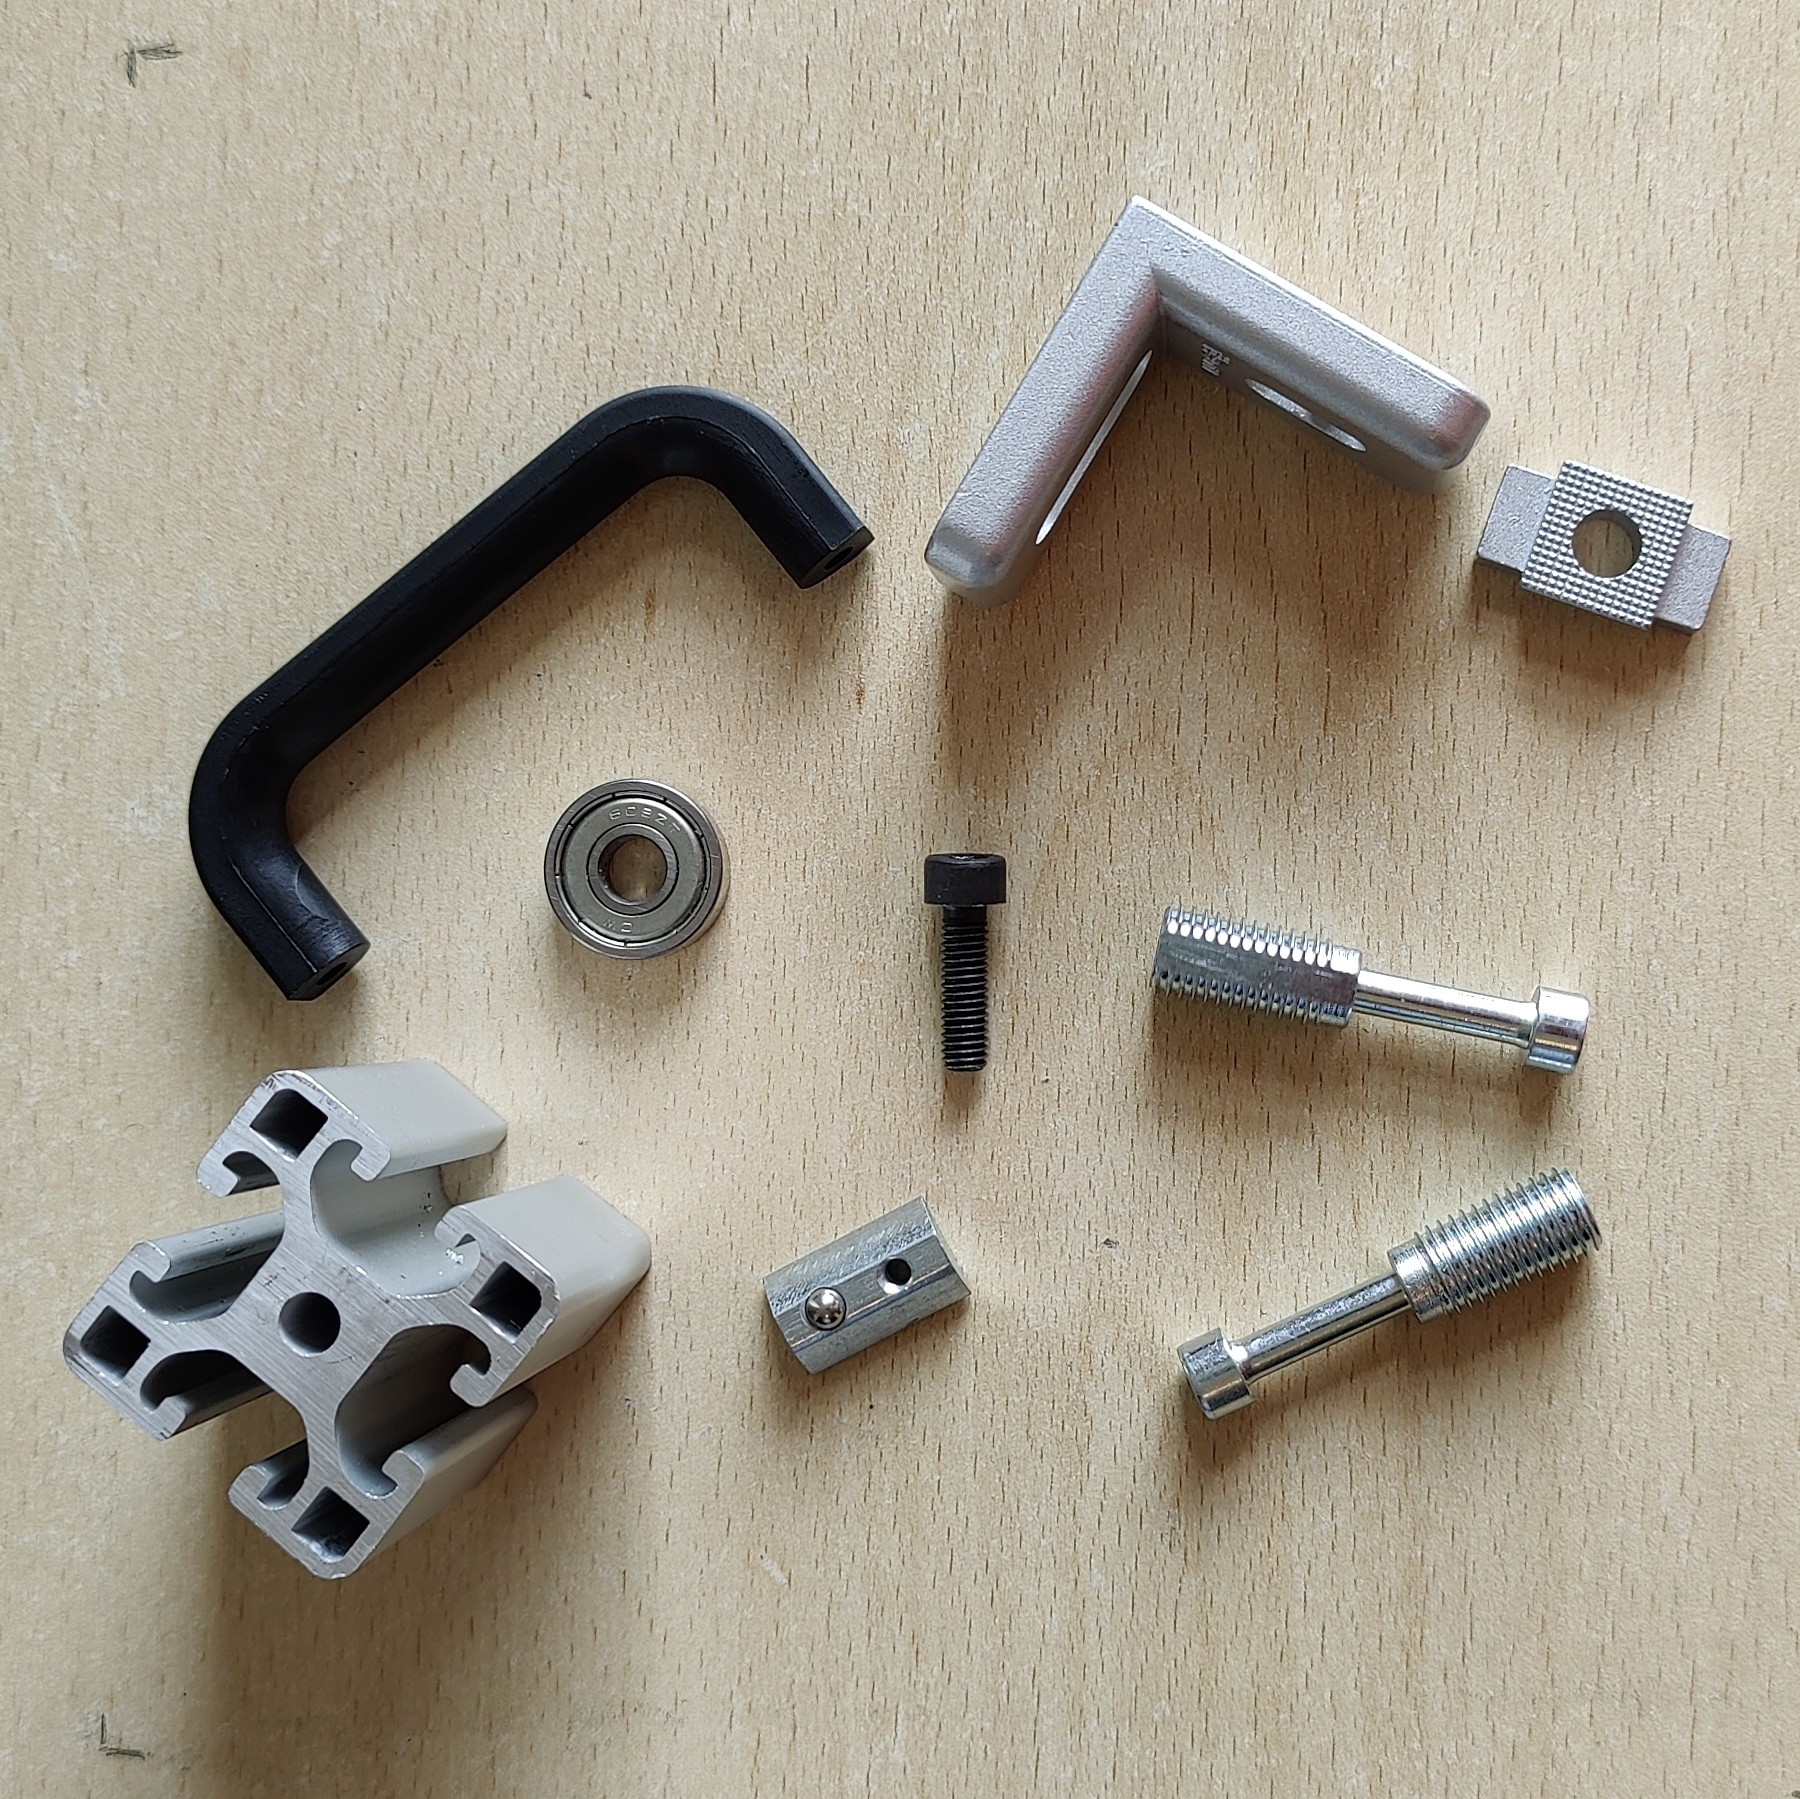Aluminium Extension: (61, 1058, 654, 1583)
Ball Bearing: (542, 776, 731, 960)
Multiwinkel: (924, 189, 1494, 608)
Pull Handle: (188, 382, 878, 1003)
Shoulder Socket Head Cap Screw: (1174, 1163, 1606, 1422), (1146, 903, 1592, 1077)
Socket Head Cap Screw: (921, 848, 1013, 1072)
T Nut Square: (1474, 456, 1732, 634)
T Spring Nut: (762, 1194, 973, 1377)
